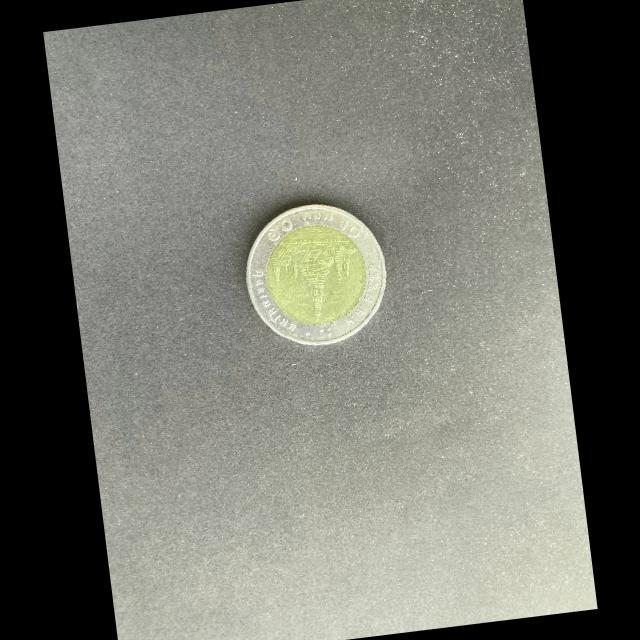10 Bath: (243, 196, 391, 355)
